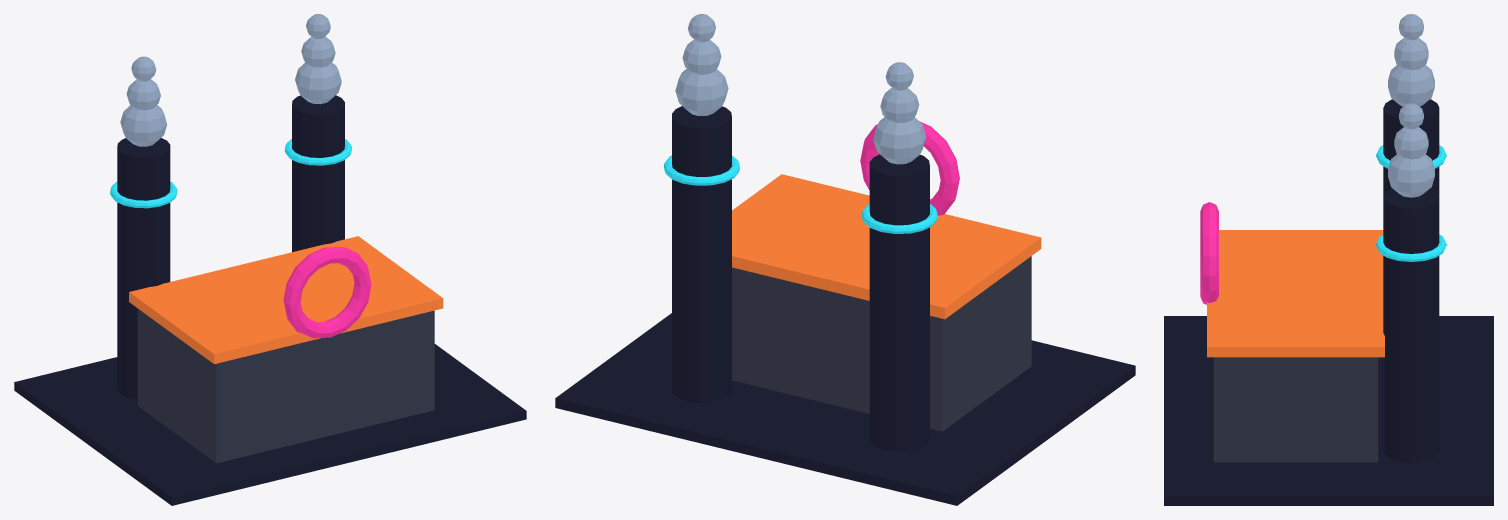
The model's file is factory-transformed.glb.
The picture shows the model from 3 angles, left to right: view 1: azimuth 30°, elevation 25°; view 2: azimuth 150°, elevation 25°; view 3: azimuth 270°, elevation 25°; orthographic projection. The views are drawn at different scales.
Parts seen in each view (by area): view 1: park_dark, park_metal, park_neon_orange, park_smoke, park_neon_magenta, park_neon_cyan; view 2: park_dark, park_metal, park_neon_orange, park_smoke, park_neon_magenta, park_neon_cyan; view 3: park_dark, park_neon_orange, park_metal, park_smoke, park_neon_magenta, park_neon_cyan.
Boxes of the visible parts, box(x1,y1,x2,y2) form: park_dark: box(14, 95, 526, 505); park_metal: box(137, 308, 434, 463); park_neon_orange: box(129, 236, 443, 364); park_smoke: box(120, 14, 341, 146); park_neon_magenta: box(283, 247, 371, 338); park_neon_cyan: box(110, 139, 351, 208); park_dark: box(555, 106, 1135, 505); park_metal: box(732, 256, 1031, 431); park_neon_orange: box(732, 174, 1041, 319); park_smoke: box(675, 14, 926, 164); park_neon_magenta: box(860, 121, 959, 215); park_neon_cyan: box(663, 155, 937, 233); park_dark: box(1164, 99, 1493, 505); park_neon_orange: box(1207, 230, 1384, 357); park_metal: box(1213, 357, 1378, 462); park_smoke: box(1388, 14, 1434, 197); park_neon_magenta: box(1200, 202, 1218, 304); park_neon_cyan: box(1376, 145, 1446, 261).
Size of what is drawn, in the model's own units: 13 by 11.9 by 10.
